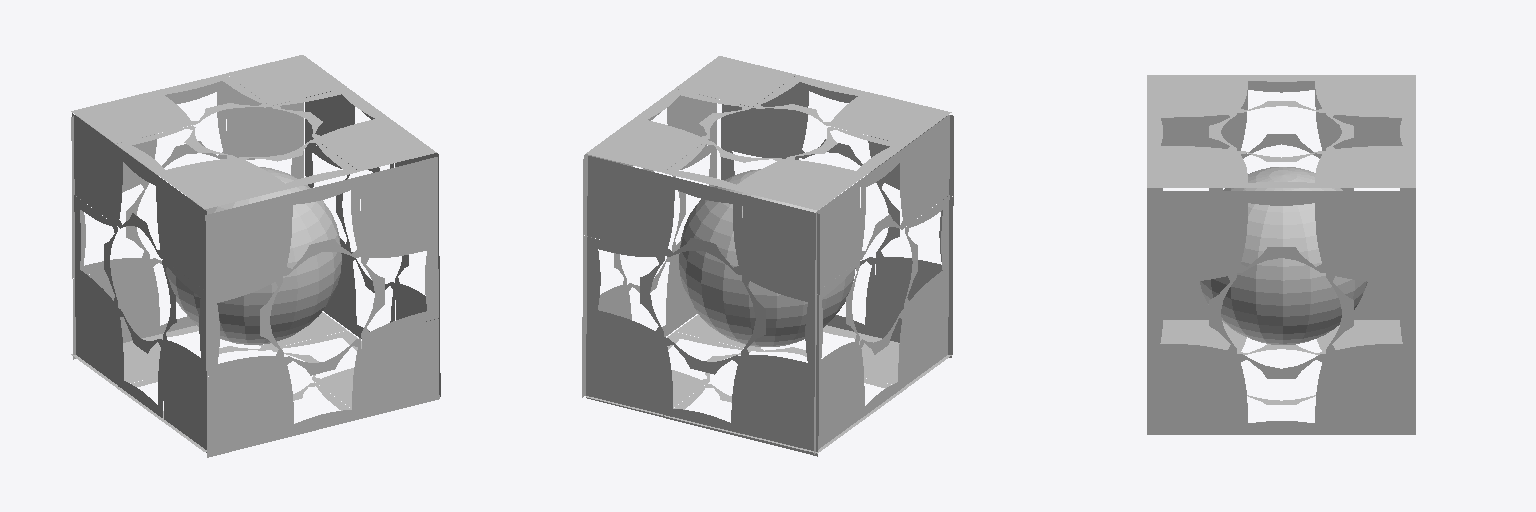
The model's file is PlayerV3.obj.
3 views of the same model, side by side, from view 1: azimuth 30°, elevation 25°; view 2: azimuth 150°, elevation 25°; view 3: azimuth 270°, elevation 25° (orthographic).
Parts seen in each view (by area): view 1: pPlane11; view 2: pPlane11; view 3: pPlane11.
Part boxes in pixels (bbox=[...]): pPlane11: bbox=[71, 55, 440, 457]; pPlane11: bbox=[582, 56, 953, 456]; pPlane11: bbox=[1147, 75, 1415, 434].
Size of the model in its own units: 1.02 by 1.02 by 1.02.